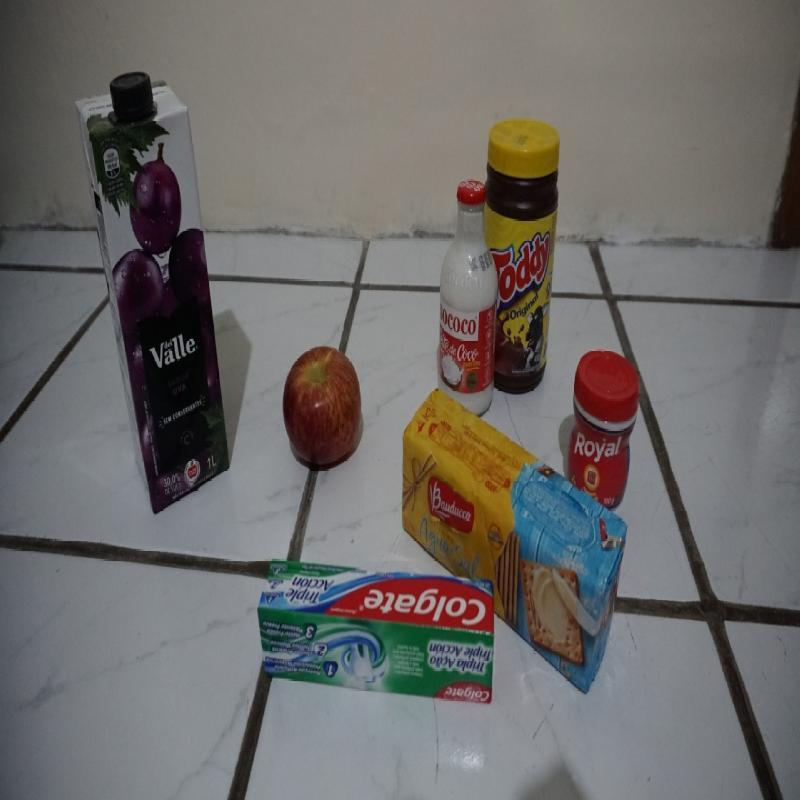Apple: (281, 344, 362, 466)
Chocolate Powder: (480, 116, 561, 400)
Coconut Milk: (438, 180, 499, 428)
Cracker: (401, 388, 628, 698)
Toothpaste: (255, 557, 498, 712)
Yeast: (567, 347, 640, 512)
